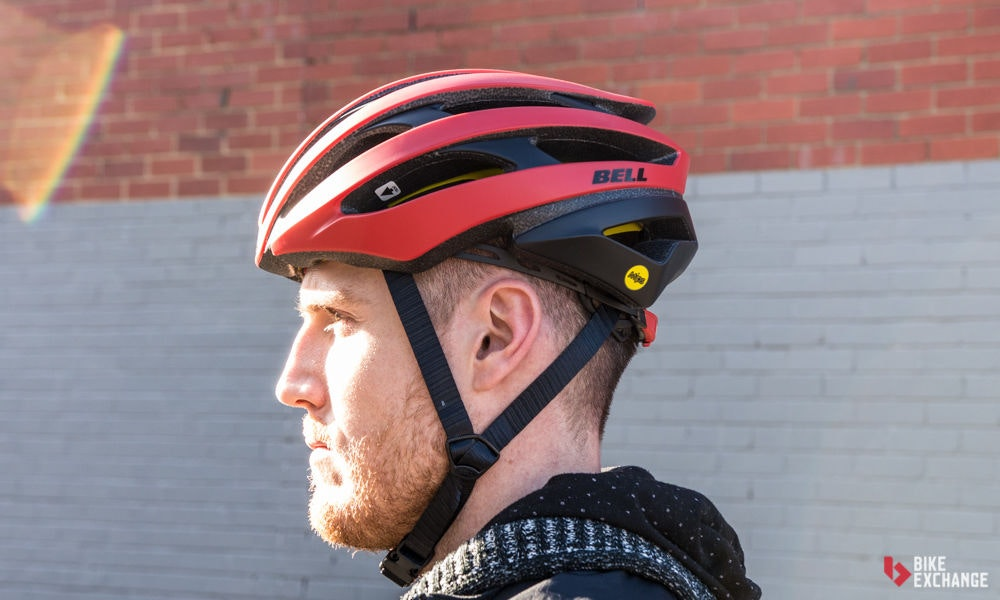helmet: (254, 68, 700, 549)
